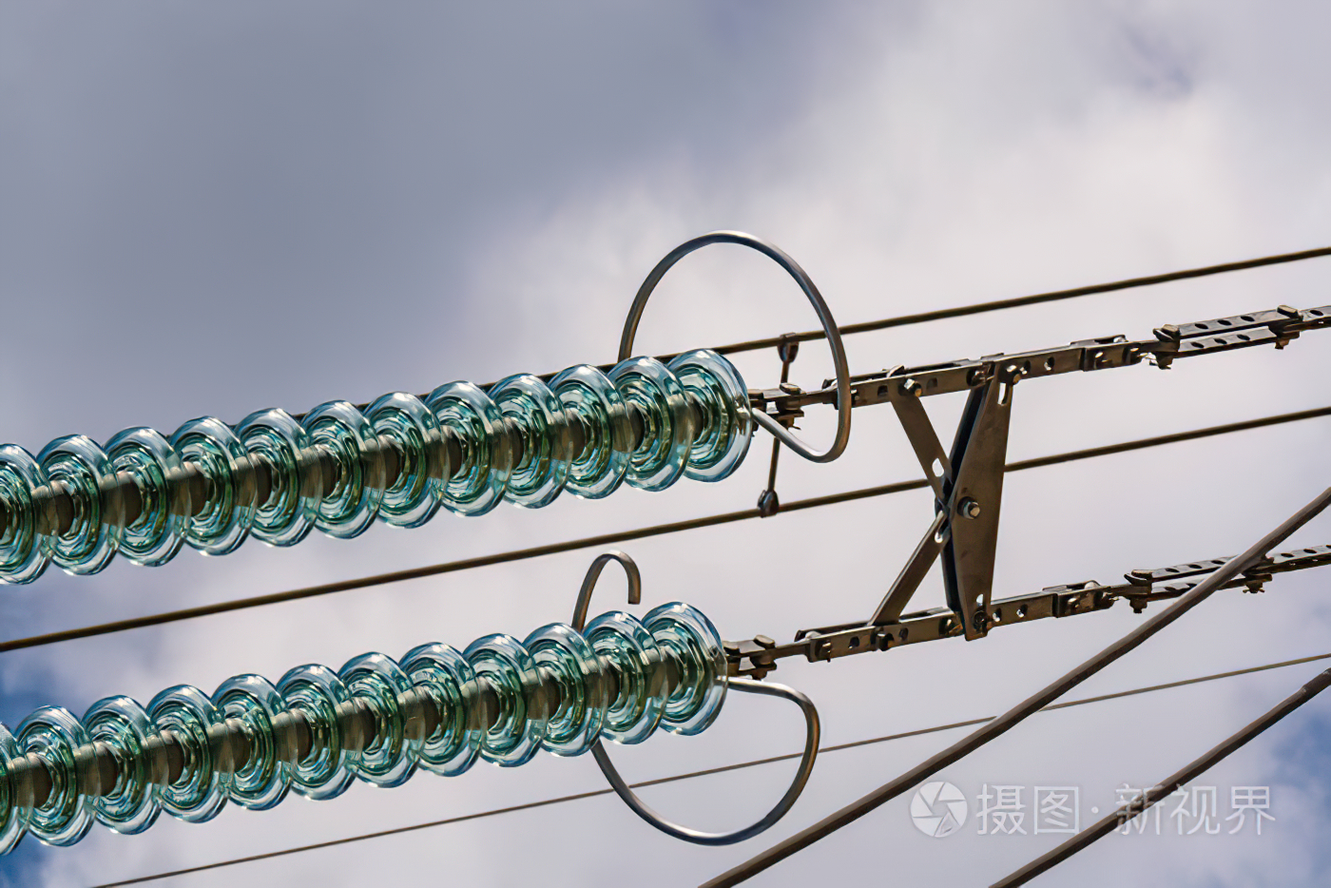insulator: (1, 344, 763, 592), (1, 604, 721, 861)
